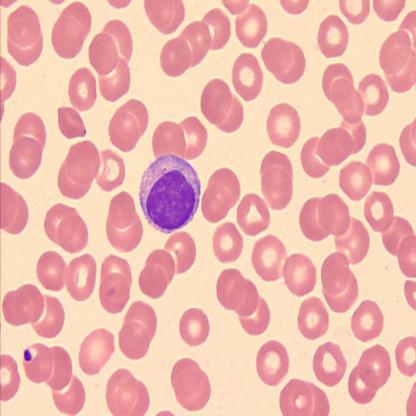Lymphocyte: (138, 154, 202, 235)
